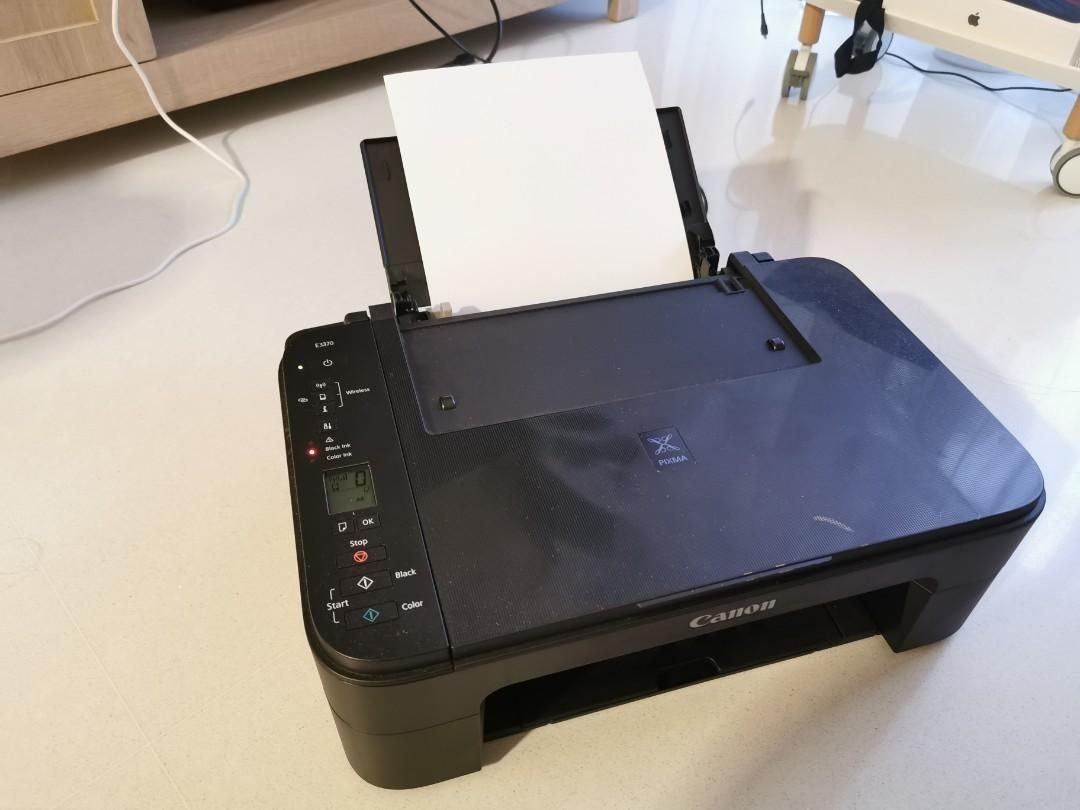Printer: (276, 48, 1046, 790)
